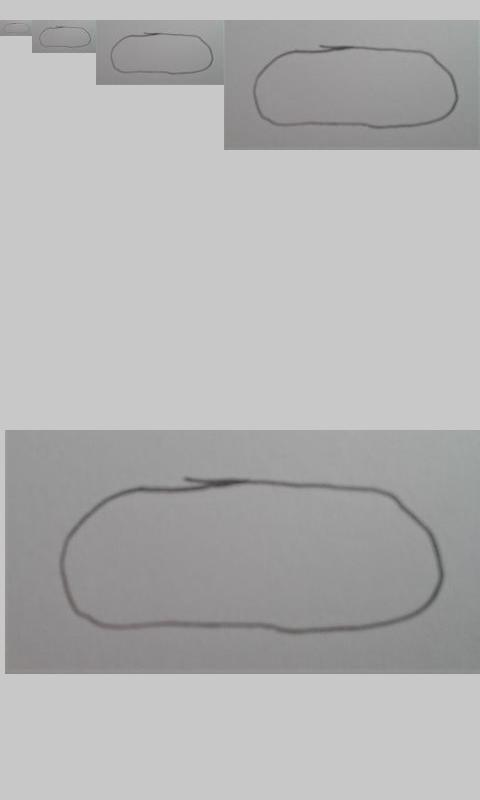chip: (60, 476, 445, 634), (251, 45, 460, 130), (110, 32, 214, 75), (38, 26, 92, 48), (3, 23, 30, 34)
